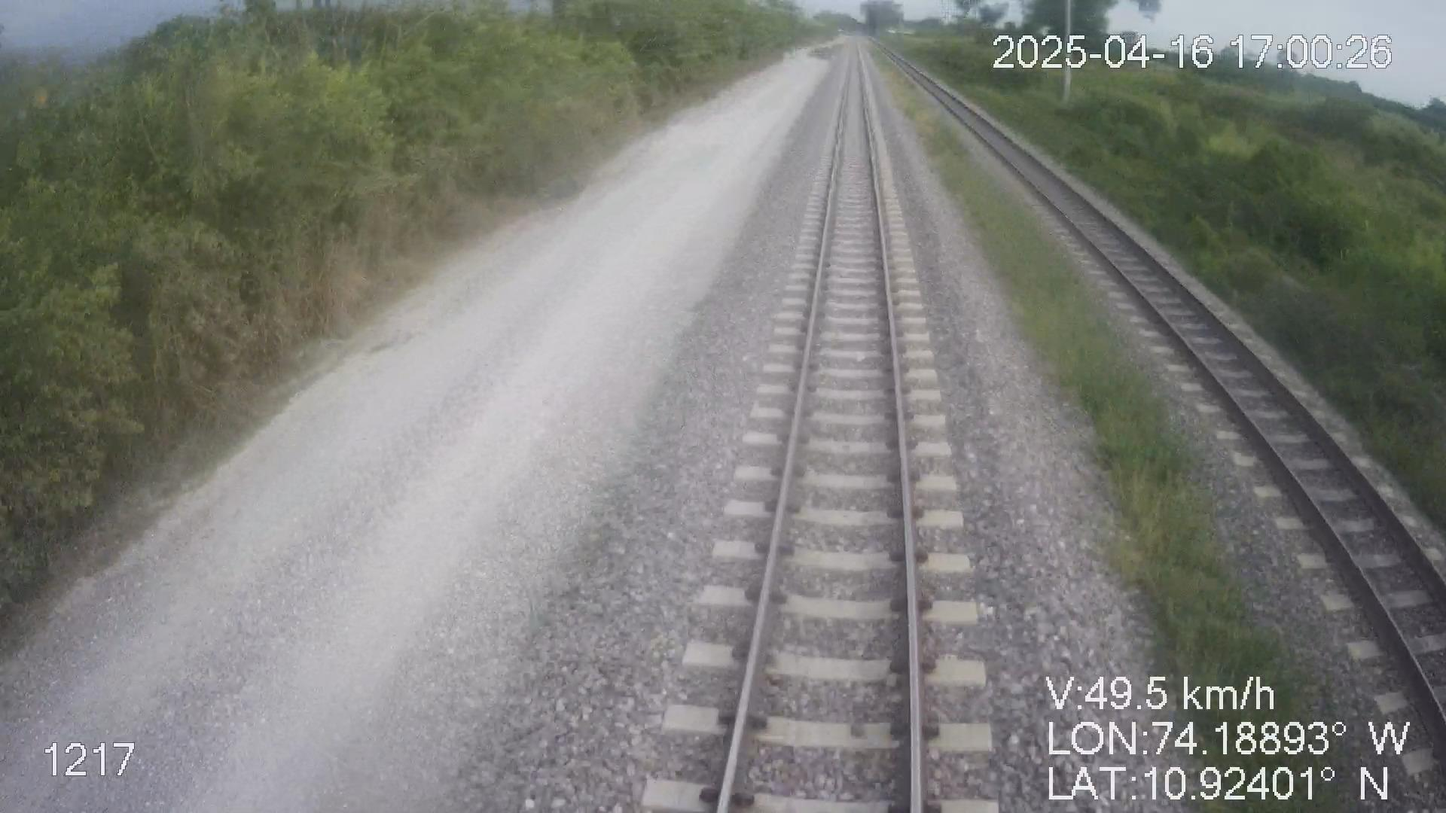Pasto: (0, 0, 840, 638), (888, 20, 1445, 578)
